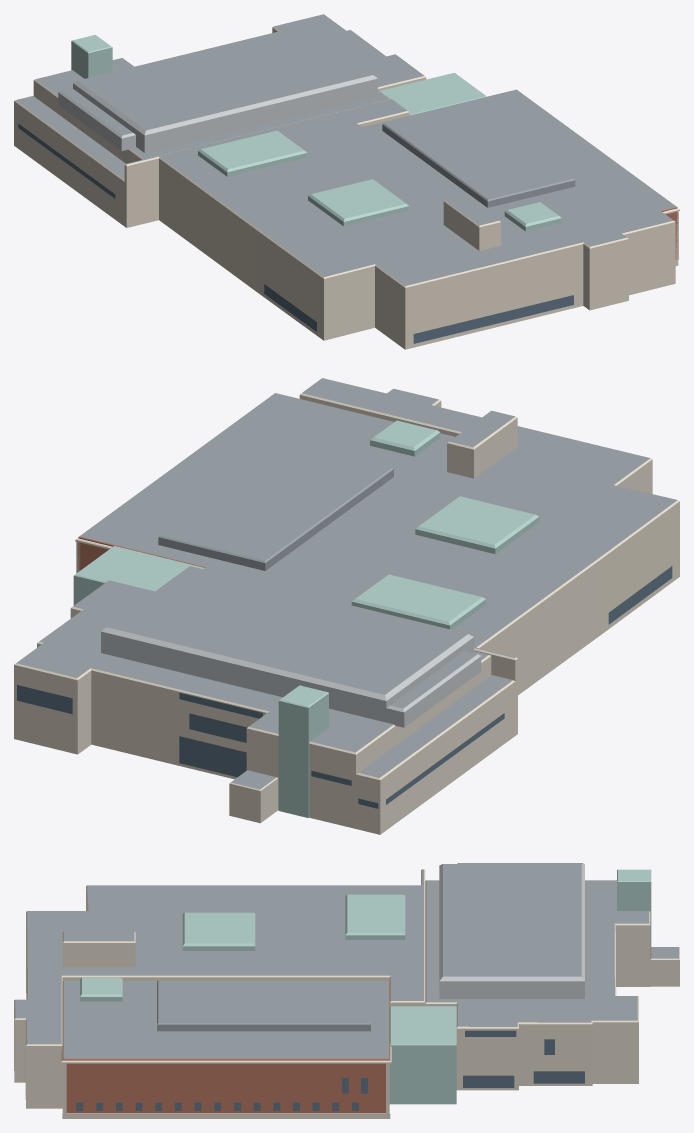
Rendered from ric-vmfa.glb.
3 renders of one model, top to bottom at view 1: azimuth 30°, elevation 25°; view 2: azimuth 150°, elevation 25°; view 3: azimuth 270°, elevation 25°, orthographic. The views are drawn at different scales.
Visible parts, largest first — view 1: Virginia Museum of Fine Arts; view 2: Virginia Museum of Fine Arts; view 3: Virginia Museum of Fine Arts.
Boxes of the visible parts, x1=… form: Virginia Museum of Fine Arts: x1=14, y1=14, x2=679, y2=349; Virginia Museum of Fine Arts: x1=14, y1=378, x2=679, y2=834; Virginia Museum of Fine Arts: x1=14, y1=863, x2=679, y2=1118.
Size of the model in its own units: 103 by 23.8 by 156.
